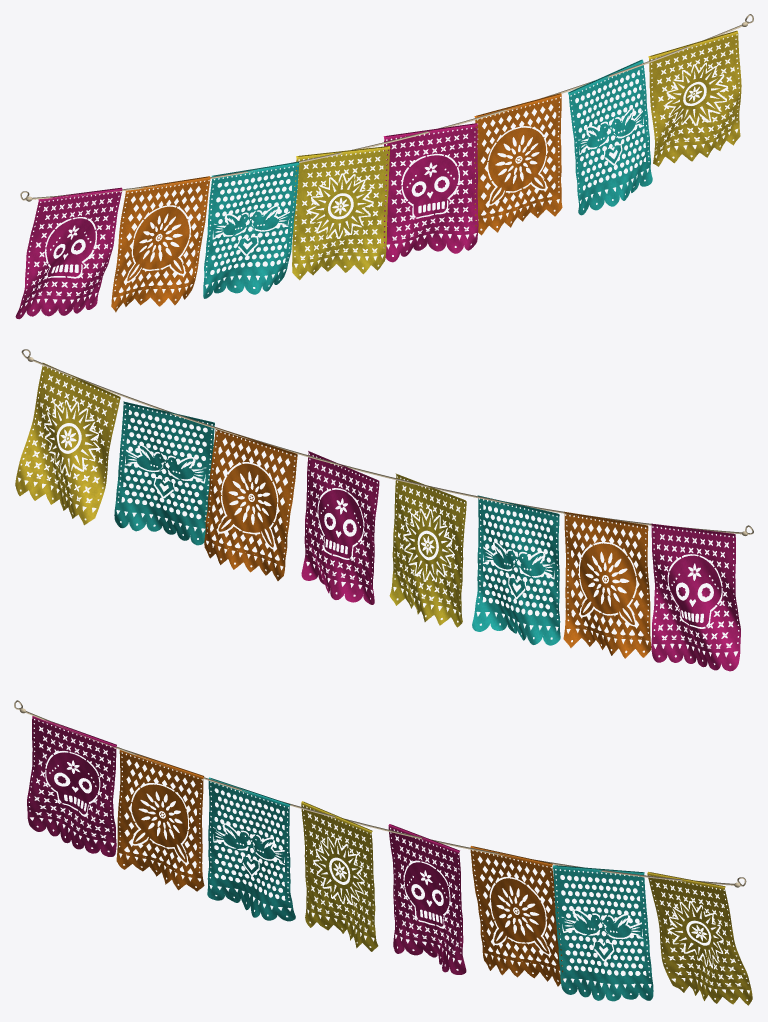
File: w3_altar_papelstrip_a.glb
3 views of the same model, one above another, from view 1: azimuth 30°, elevation 25°; view 2: azimuth 150°, elevation 25°; view 3: azimuth 330°, elevation 25° (orthographic).
Parts seen in each view (by area): view 1: w3_altar_papelstrip_a; view 2: w3_altar_papelstrip_a; view 3: w3_altar_papelstrip_a.
Part boxes in pixels (x1,y1,x2,y2): w3_altar_papelstrip_a: (15,14,753,319); w3_altar_papelstrip_a: (15,349,753,671); w3_altar_papelstrip_a: (14,700,752,1005).
Size of the model in its own units: 2.43 by 0.527 by 0.1283.
2 materials, 2 textured.
